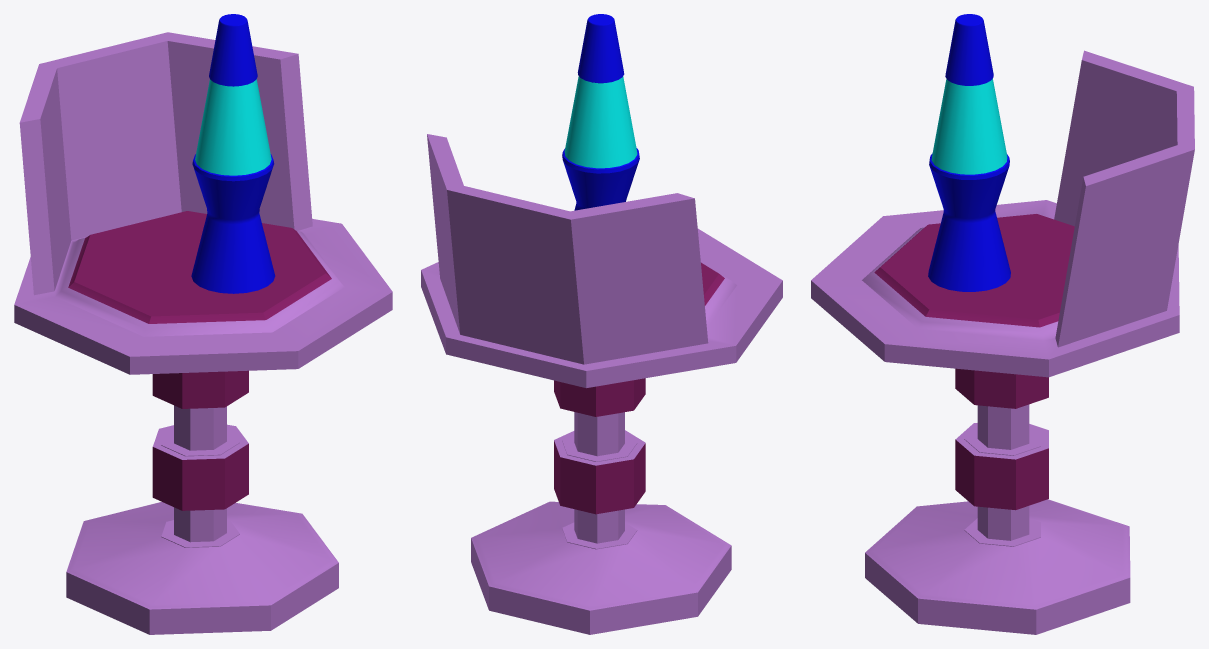
File: toiletSquare.glb
The picture shows the model from 3 angles, left to right: view 1: azimuth 30°, elevation 25°; view 2: azimuth 150°, elevation 25°; view 3: azimuth 270°, elevation 25°; orthographic projection. The views are drawn at different scales.
Visible parts, largest first — view 1: pCylinder5_lambert20_0; view 2: pCylinder5_lambert20_0; view 3: pCylinder5_lambert20_0.
Boxes of the visible parts, x1,y1,x2,y2 form: pCylinder5_lambert20_0: [14, 14, 392, 634]; pCylinder5_lambert20_0: [421, 14, 782, 634]; pCylinder5_lambert20_0: [811, 14, 1194, 634].
Size of the model in its own units: 0.7638 by 1.26 by 0.7768.
